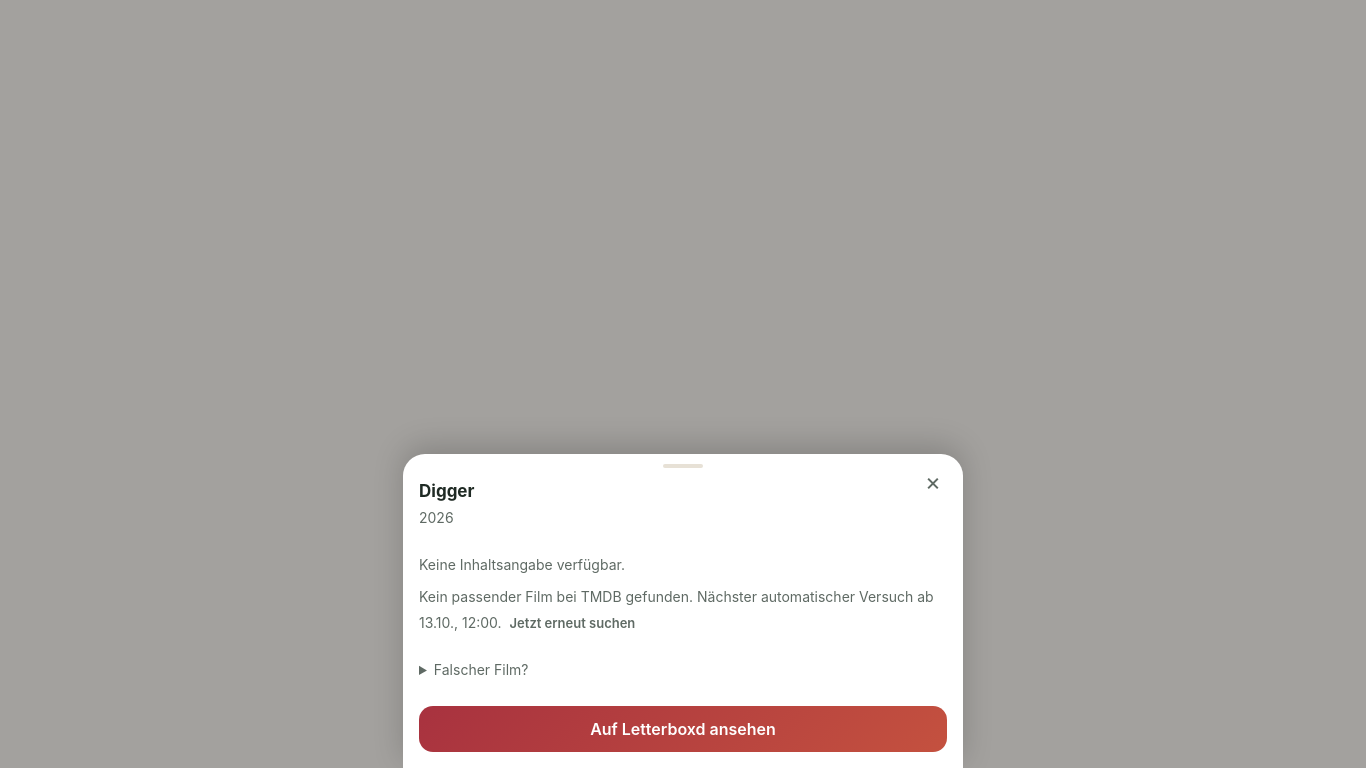
Test: Film-Metadaten-Status (K19-AC04) › Fehltreffer: ehrlicher Hinweis mit nächstem Versuch; Retry zeigt Treffer
Click the button "Jetzt erneut suchen" at coordinates (572, 623), box x1=506 y1=606 x2=639 y2=640
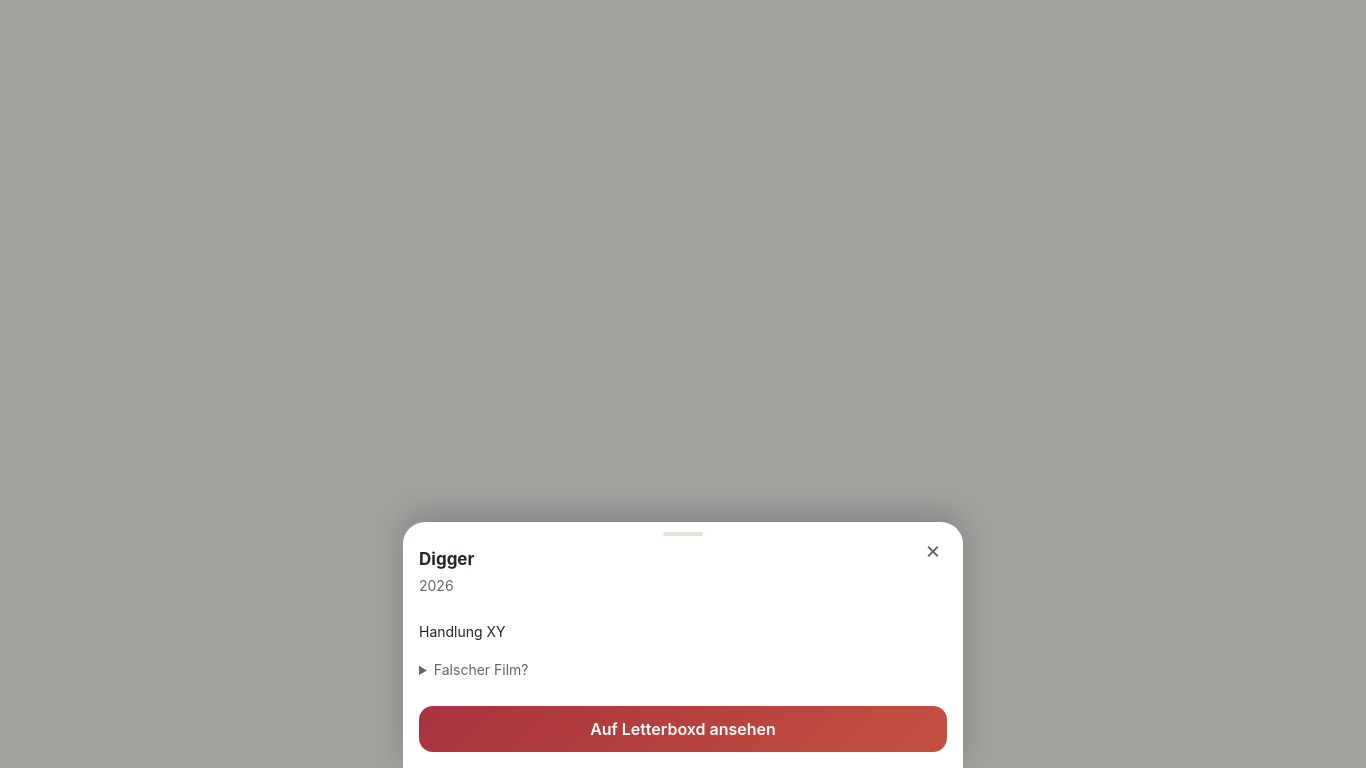
Expected: the text "Kein passender Film" is gone
